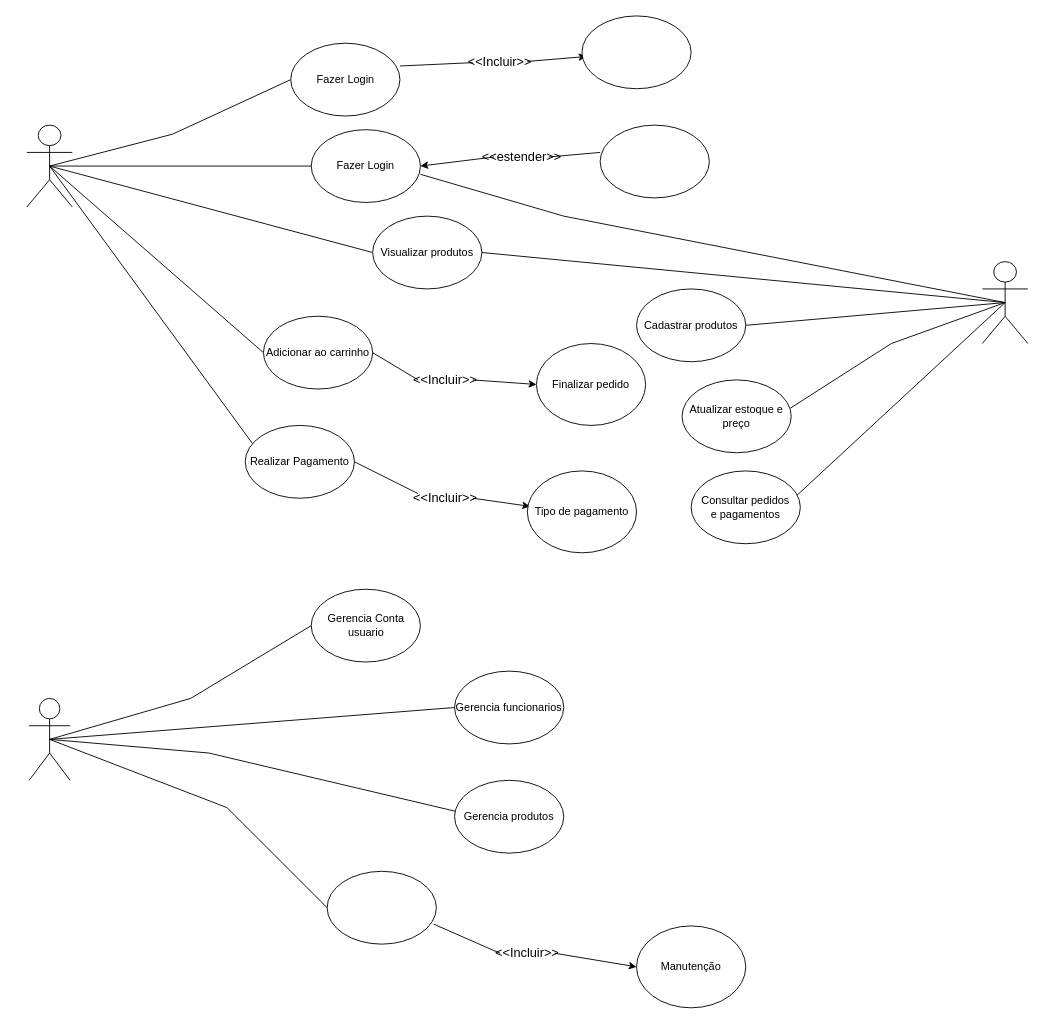
Some shapes in this 1044 by 1024 pixel diagram are drawn without their labels. The shapes that lost their labels are listed below. From the top down, each one's centre as x and y in pixels, then its label:
At [636,52]: "Verificar Senha".
At [49,165]: "Cliente".
At [654,161]: "Exibir Erro de Login".
At [1004,302]: "Vendedor".
At [49,739]: "Administrador".
At [381,907]: "Gerencia sistema".
